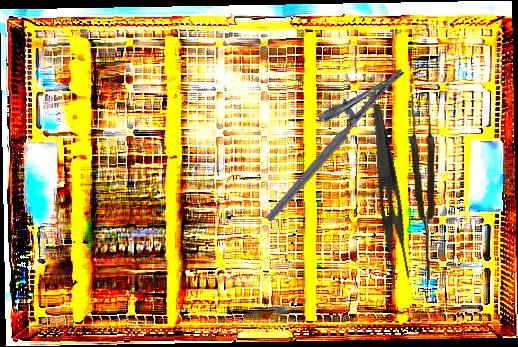Dressing Forceps: (352, 103, 420, 290)
Needle Holder: (243, 48, 407, 224)
Tissue Forceps: (408, 93, 440, 281)
